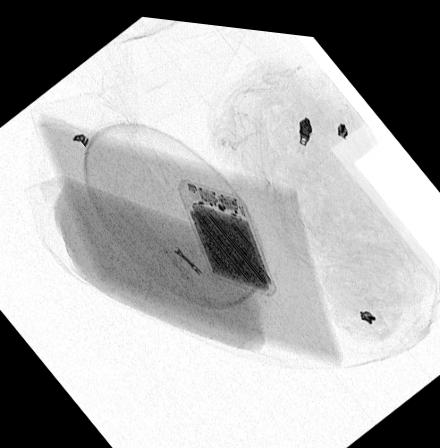Powerbank: (176, 173, 280, 288)
